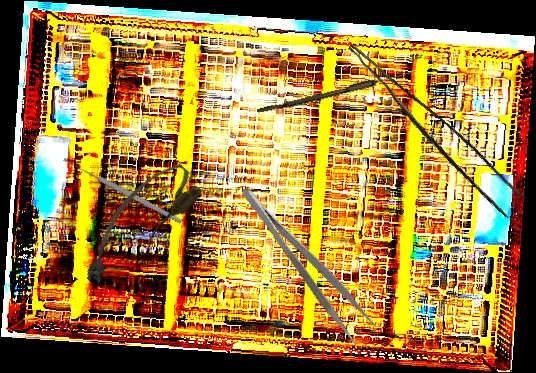Cannula: (65, 154, 208, 294)
Dressing Forceps: (237, 174, 379, 347)
Surgical Spoon: (256, 66, 418, 118), (62, 156, 183, 225)
Tissue Forceps: (330, 43, 530, 219)
